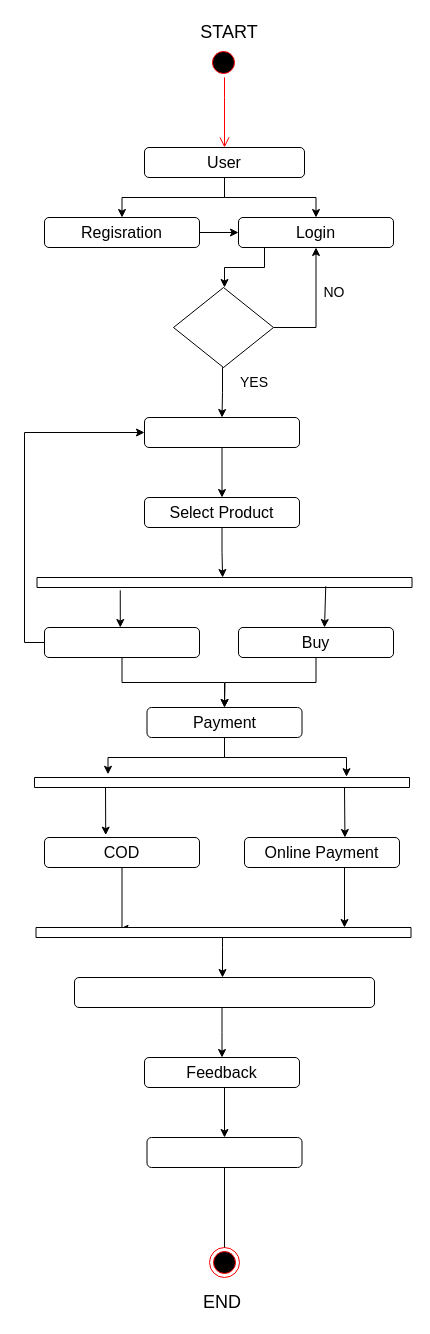
This 430x1334 diagram has some shape labels left out. Each missing label, with the centre of its shape:
Add To Cart: point (122, 642)
Logout: point (224, 1152)
Message and Delivery Location: point (224, 992)
Search Product: point (222, 432)
Valid User: point (223, 327)
